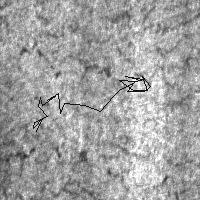crazing: (3, 140, 150, 199), (15, 42, 197, 87), (33, 76, 150, 131), (68, 2, 197, 46)
